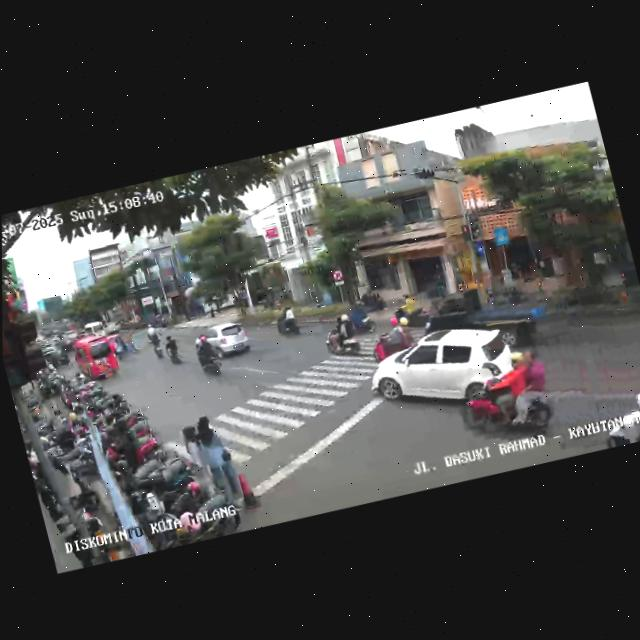car: (363, 303, 548, 431), (417, 274, 540, 369), (69, 329, 122, 387), (202, 317, 255, 363)
motorcycle: (455, 337, 567, 450), (319, 304, 370, 361), (600, 380, 640, 447), (367, 312, 417, 365), (389, 286, 431, 332), (190, 331, 227, 381), (343, 298, 374, 338), (273, 304, 303, 341), (160, 331, 184, 367), (145, 327, 165, 358)
person: (187, 411, 236, 498), (177, 421, 208, 485)
